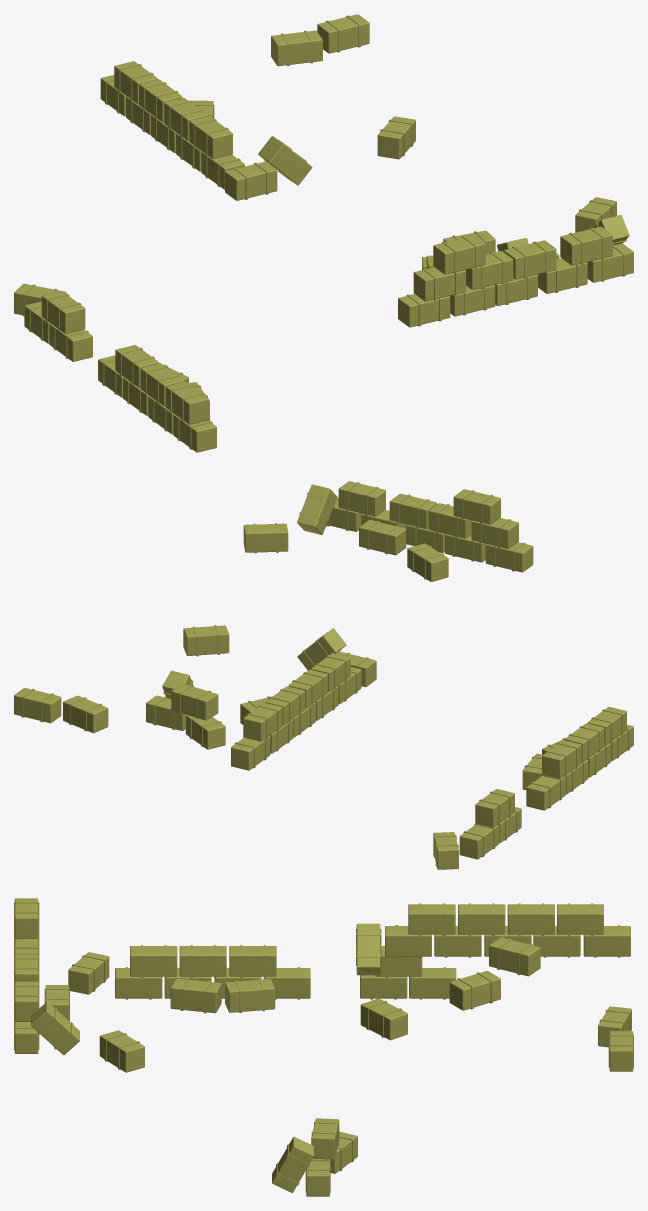
The model's file is MOD_HayBale_Group.fbx.
3 views of the same model, one above another, from view 1: azimuth 30°, elevation 25°; view 2: azimuth 150°, elevation 25°; view 3: azimuth 270°, elevation 25° (orthographic). The views are drawn at different scales.
Visible parts, largest first — view 1: HayBaleGreybox_25, HayBaleGreybox_29, HayBaleGreybox_5, HayBaleGreybox_18, HayBaleGreybox_19, HayBaleGreybox_26, HayBaleGreybox_47, HayBaleGreybox_43, HayBaleGreybox_12, HayBaleGreybox_28, HayBaleGreybox_20, HayBaleGreybox_17 (+19 smaller); view 2: HayBaleGreybox_30, HayBaleGreybox_29, HayBaleGreybox_25, HayBaleGreybox_31, HayBaleGreybox_19, HayBaleGreybox_3, HayBaleGreybox_17, HayBaleGreybox_33, HayBaleGreybox_18, HayBaleGreybox_32, HayBaleGreybox_26, HayBaleGreybox_45 (+21 smaller); view 3: HayBaleGreybox_16, HayBaleGreybox_49, HayBaleGreybox_52, HayBaleGreybox_51, HayBaleGreybox_30, HayBaleGreybox_44, HayBaleGreybox_12, HayBaleGreybox_17, HayBaleGreybox_13, HayBaleGreybox_14, HayBaleGreybox_43, HayBaleGreybox_45 (+26 smaller).
Part boxes in pixels (x1,y1,x2,y2): HayBaleGreybox_25: [560, 226, 612, 265]; HayBaleGreybox_29: [433, 235, 485, 274]; HayBaleGreybox_5: [225, 161, 277, 200]; HayBaleGreybox_18: [271, 30, 322, 66]; HayBaleGreybox_19: [317, 14, 369, 53]; HayBaleGreybox_26: [504, 240, 556, 279]; HayBaleGreybox_47: [41, 291, 85, 333]; HayBaleGreybox_43: [165, 381, 209, 424]; HayBaleGreybox_12: [189, 116, 232, 158]; HayBaleGreybox_28: [413, 267, 465, 301]; HayBaleGreybox_20: [398, 294, 450, 327]; HayBaleGreybox_17: [377, 116, 415, 159]; HayBaleGreybox_30: [297, 484, 337, 534]; HayBaleGreybox_29: [453, 489, 500, 524]; HayBaleGreybox_25: [338, 481, 385, 516]; HayBaleGreybox_31: [359, 520, 406, 555]; HayBaleGreybox_19: [14, 688, 61, 723]; HayBaleGreybox_3: [171, 684, 218, 720]; HayBaleGreybox_17: [183, 625, 229, 656]; HayBaleGreybox_33: [243, 523, 288, 553]; HayBaleGreybox_18: [63, 695, 108, 733]; HayBaleGreybox_32: [407, 543, 448, 581]; HayBaleGreybox_26: [389, 493, 437, 528]; HayBaleGreybox_45: [542, 740, 581, 778]; HayBaleGreybox_16: [489, 937, 540, 976]; HayBaleGreybox_49: [170, 978, 221, 1013]; HayBaleGreybox_52: [449, 971, 500, 1010]; HayBaleGreybox_51: [225, 978, 275, 1012]; HayBaleGreybox_30: [31, 1001, 79, 1055]; HayBaleGreybox_44: [179, 945, 226, 977]; HayBaleGreybox_12: [408, 903, 455, 935]; HayBaleGreybox_17: [360, 998, 407, 1040]; HayBaleGreybox_13: [458, 903, 505, 935]; HayBaleGreybox_14: [507, 903, 554, 935]; HayBaleGreybox_43: [130, 945, 177, 977]; HayBaleGreybox_45: [229, 945, 276, 977].
Bounding box in the file's own units: 3132 × 1319 × 3939.
